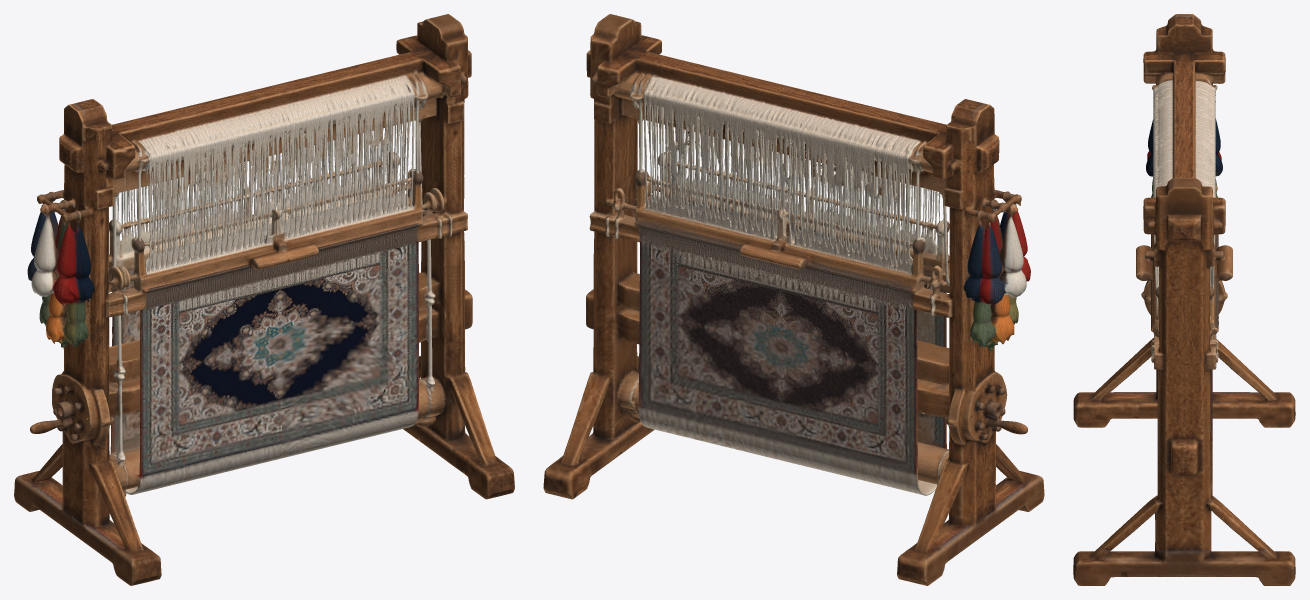
The model's file is madalyonlu_tezgah.glb.
3 views of the same model, side by side, from view 1: azimuth 30°, elevation 25°; view 2: azimuth 150°, elevation 25°; view 3: azimuth 270°, elevation 25° (orthographic). The views are drawn at different scales.
Bounding box in the file's own units: 1.85 × 1.76 × 0.8848.
Materials: 1 (1 with a texture image).
